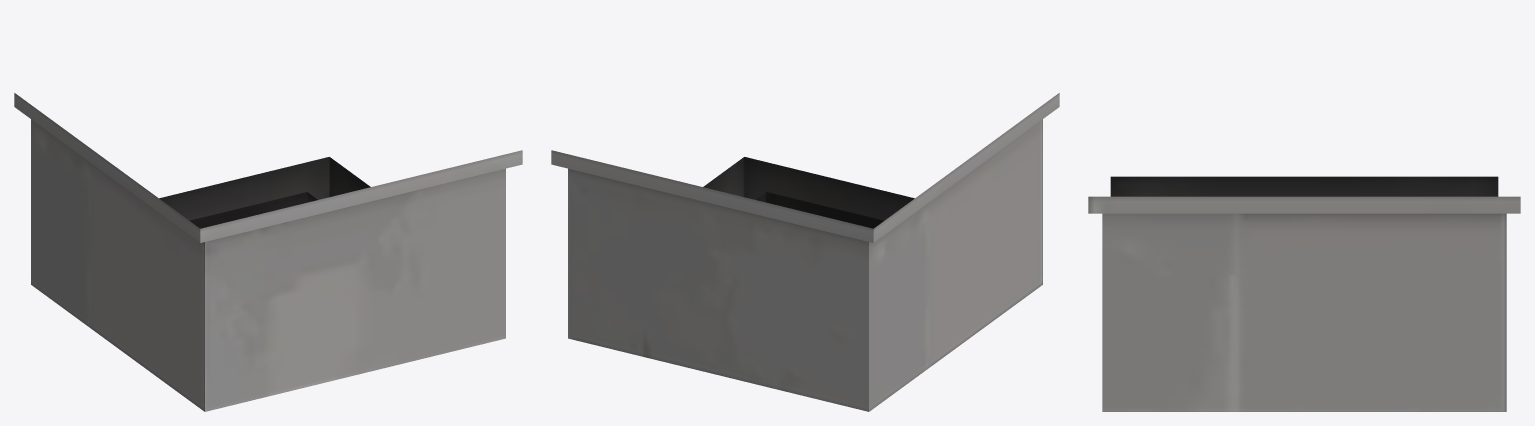
3 views of the same model, side by side, from view 1: azimuth 30°, elevation 25°; view 2: azimuth 150°, elevation 25°; view 3: azimuth 270°, elevation 25° (orthographic). The views are drawn at different scales.
Parts seen in each view (by area): view 1: body0_model0_lod0_mesh0; view 2: body0_model0_lod0_mesh0; view 3: body0_model0_lod0_mesh0.
Part boxes in pixels (x1,y1,x2,y2): body0_model0_lod0_mesh0: (14,93,522,411); body0_model0_lod0_mesh0: (551,93,1059,411); body0_model0_lod0_mesh0: (1088,176,1520,411).
Bounding box in the file's own units: 51.04 × 28.8 × 51.04.
1 material, 1 textured.
